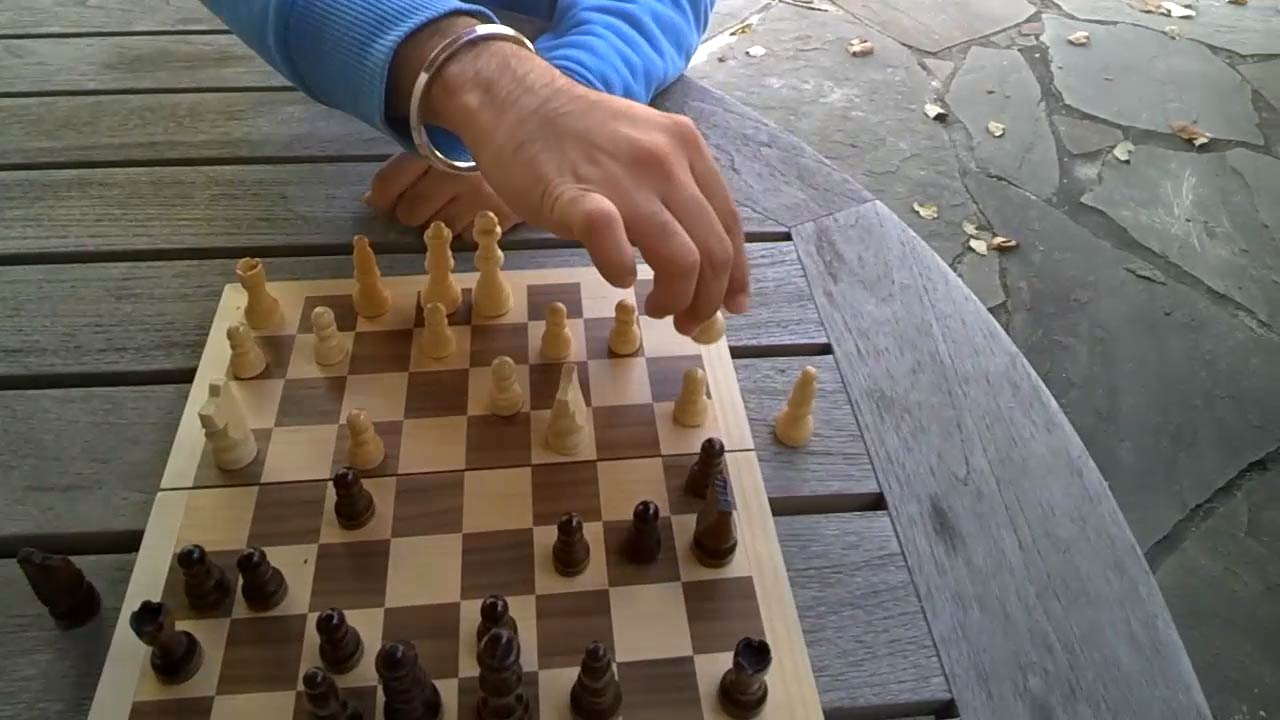hand: (459, 72, 745, 325), (365, 146, 513, 237)
